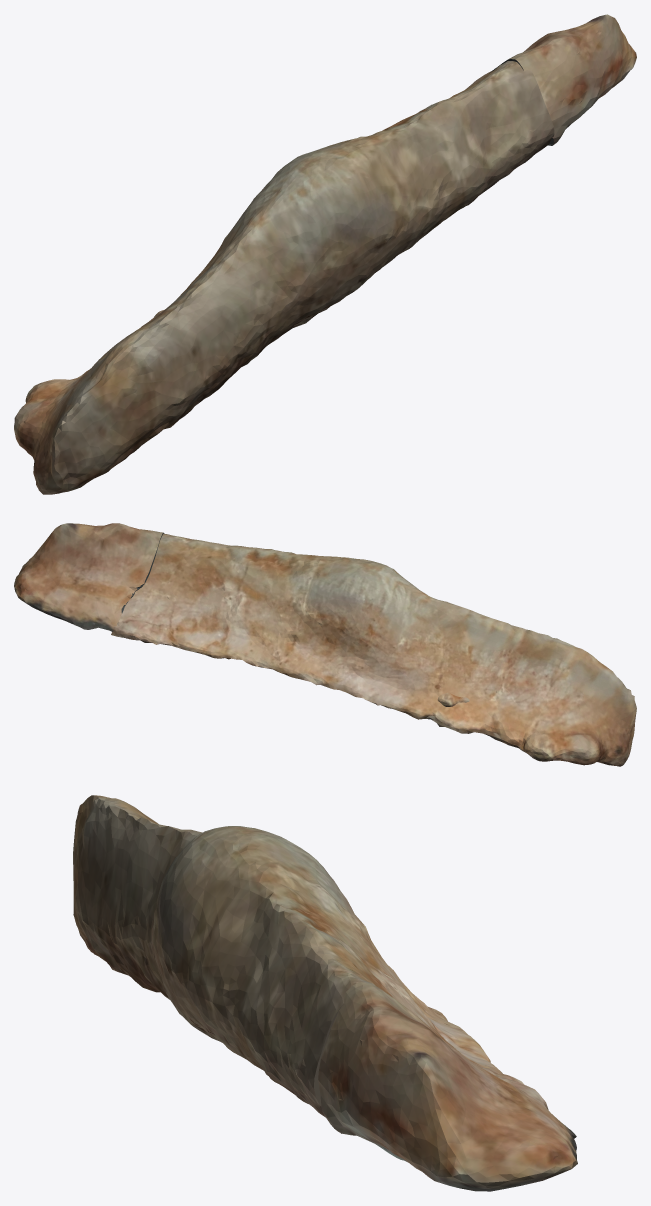
The model's file is 2-3_Shark_Teeth.glb.
The picture shows the model from 3 angles, top to bottom: view 1: azimuth 30°, elevation 25°; view 2: azimuth 150°, elevation 25°; view 3: azimuth 270°, elevation 25°; orthographic projection. The views are drawn at different scales.
Visible parts, largest first — view 1: 3DModel, 3DModel 1; view 2: 3DModel, 3DModel 1, 3DModel 3; view 3: 3DModel, 3DModel 1.
Boxes of the visible parts, x1,y1,x2,y2 form: 3DModel: (14,61,554,494); 3DModel 1: (465,14,636,145); 3DModel: (111,533,636,766); 3DModel 1: (14,523,164,638); 3DModel 3: (112,606,147,639); 3DModel: (73,795,532,1117); 3DModel 1: (318,982,577,1191).
Bounding box in the file's own units: 0.2685 × 0.0886 × 0.1131.
4 materials, 3 textured.
